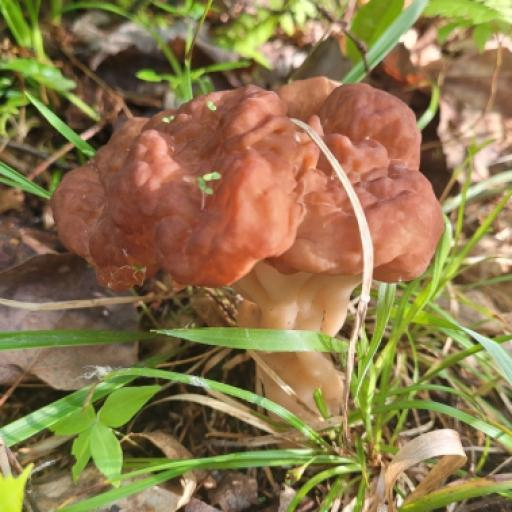mushroom: (41, 66, 454, 364)
